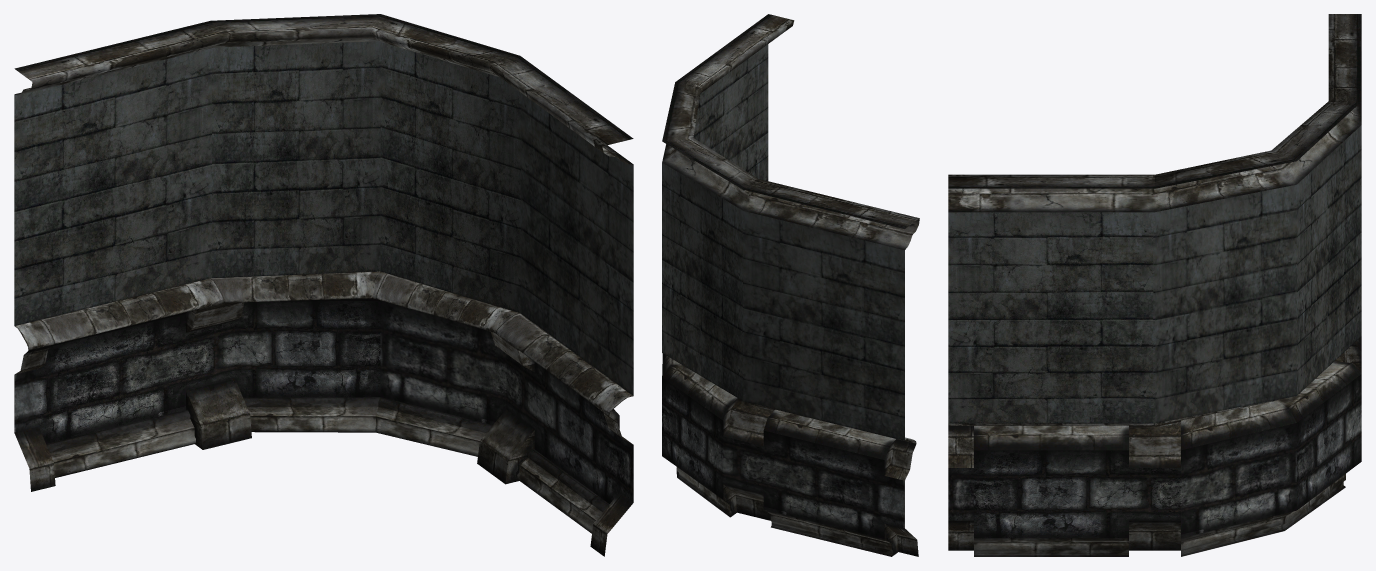
The model's file is corner_concave_round_alt.dae.
3 views of the same model, side by side, from view 1: azimuth 30°, elevation 25°; view 2: azimuth 150°, elevation 25°; view 3: azimuth 270°, elevation 25° (orthographic). The views are drawn at different scales.
Visible parts, largest first — view 1: polySurface113; view 2: polySurface113; view 3: polySurface113.
Boxes of the visible parts, x1,y1,x2,y2 form: polySurface113: [14, 14, 633, 556]; polySurface113: [662, 14, 919, 556]; polySurface113: [948, 14, 1361, 556].
Size of what is drawn, in the model's own units: 4 by 4 by 4.
